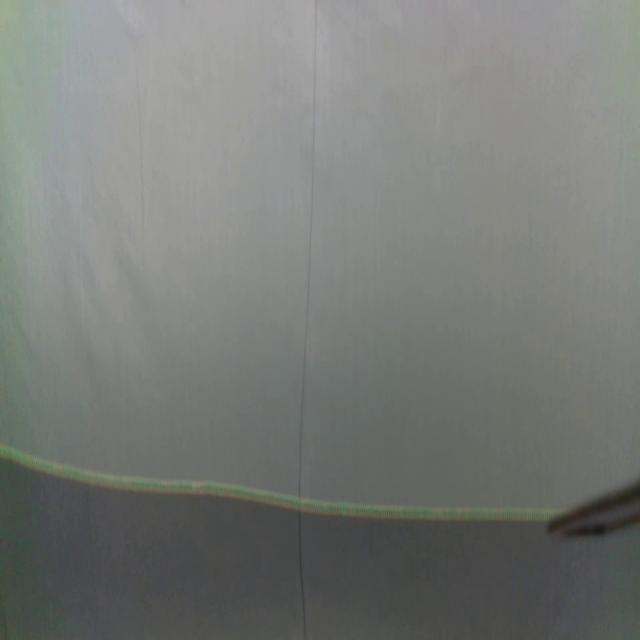crease: (297, 0, 319, 640), (134, 62, 147, 245)
